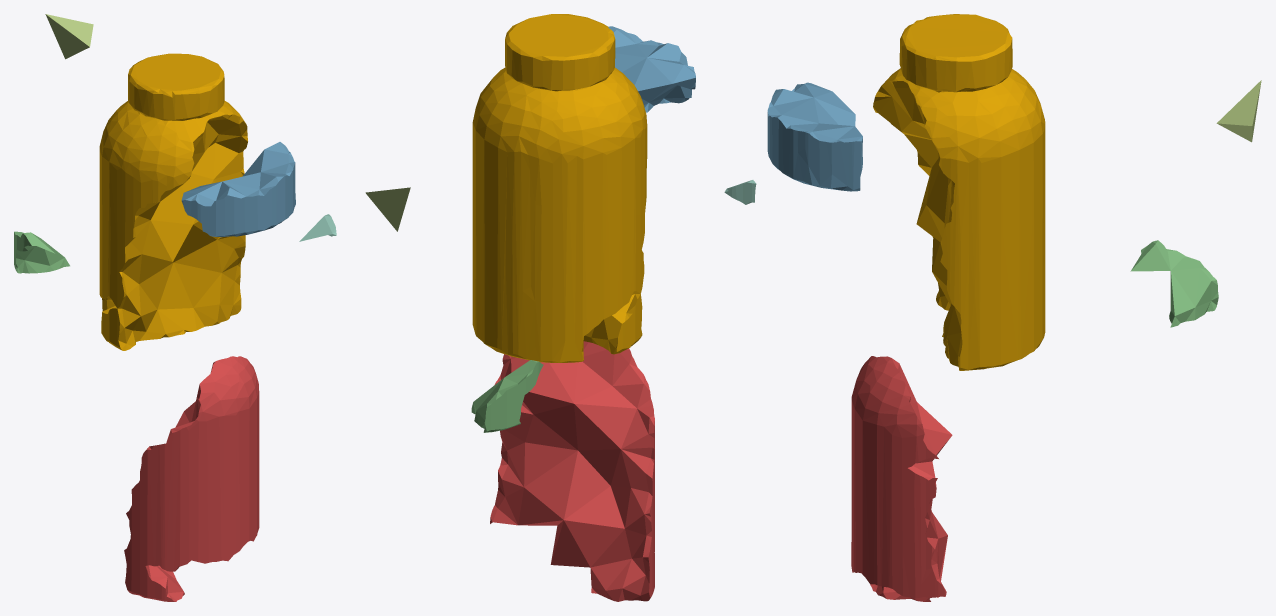
File: fractured_12_6pcs_transformed.glb
3 renders of one model, left to right at view 1: azimuth 30°, elevation 25°; view 2: azimuth 150°, elevation 25°; view 3: azimuth 270°, elevation 25°, orthographic. The views are drawn at different scales.
Visible parts, largest first — view 1: piece_0.obj, piece_1.obj, piece_2.obj, piece_3.obj, piece_5.obj, piece_4.obj; view 2: piece_0.obj, piece_1.obj, piece_2.obj, piece_3.obj, piece_5.obj; view 3: piece_0.obj, piece_1.obj, piece_2.obj, piece_3.obj, piece_5.obj.
Boxes of the visible parts, left/top/right/bottom form: piece_0.obj: left=99, top=53, right=247, bottom=350; piece_1.obj: left=124, top=356, right=259, bottom=601; piece_2.obj: left=181, top=142, right=295, bottom=237; piece_3.obj: left=14, top=231, right=69, bottom=273; piece_5.obj: left=45, top=14, right=93, bottom=59; piece_4.obj: left=299, top=214, right=336, bottom=241; piece_0.obj: left=472, top=14, right=647, bottom=362; piece_1.obj: left=490, top=341, right=654, bottom=601; piece_2.obj: left=608, top=26, right=695, bottom=112; piece_3.obj: left=471, top=360, right=543, bottom=432; piece_5.obj: left=365, top=187, right=410, bottom=231; piece_0.obj: left=873, top=14, right=1045, bottom=370; piece_1.obj: left=851, top=356, right=952, bottom=601; piece_2.obj: left=767, top=82, right=862, bottom=191; piece_3.obj: left=1130, top=240, right=1218, bottom=327; piece_5.obj: left=1216, top=80, right=1261, bottom=142.
Bounding box in the file's own units: 0.5393 × 1.92 × 1.62.
